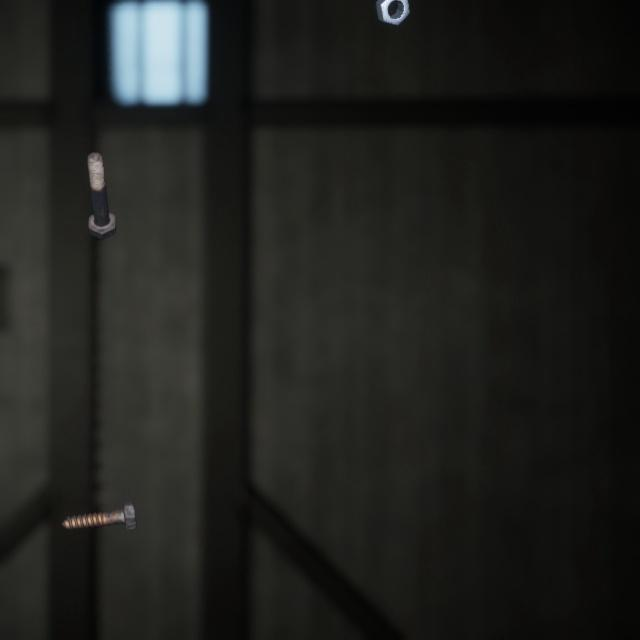bolt: (82, 133, 120, 229), (57, 475, 141, 513)
nut: (371, 0, 414, 24)
